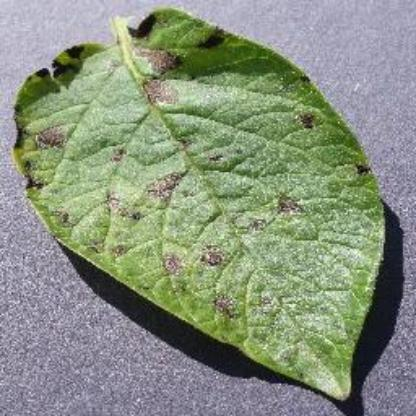Early-Blight: (15, 9, 395, 403)
